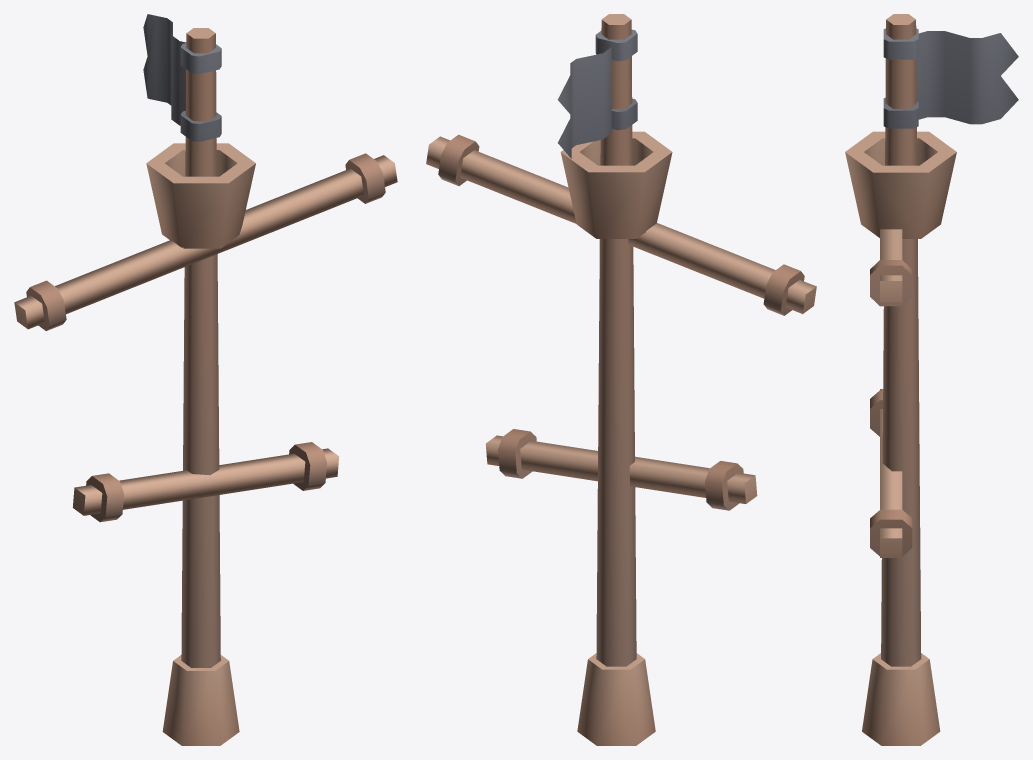
Rendered from mast.glb.
3 renders of one model, left to right at view 1: azimuth 30°, elevation 25°; view 2: azimuth 150°, elevation 25°; view 3: azimuth 270°, elevation 25°, orthographic.
Parts seen in each view (by area): view 1: mast, sail-a, flag-c; view 2: mast, sail-a, flag-c; view 3: mast, flag-c, sail-a.
Part boxes in pixels (x1,y1,x2,y2): mast: [146, 28, 255, 745]; sail-a: [14, 153, 397, 522]; flag-c: [143, 14, 221, 141]; mast: [560, 14, 672, 745]; sail-a: [426, 134, 816, 510]; flag-c: [557, 29, 637, 158]; mast: [845, 14, 956, 745]; flag-c: [883, 28, 1018, 128]; sail-a: [870, 229, 912, 557].
Bounding box in the file's own units: 4.39 × 7.86 × 1.74.
